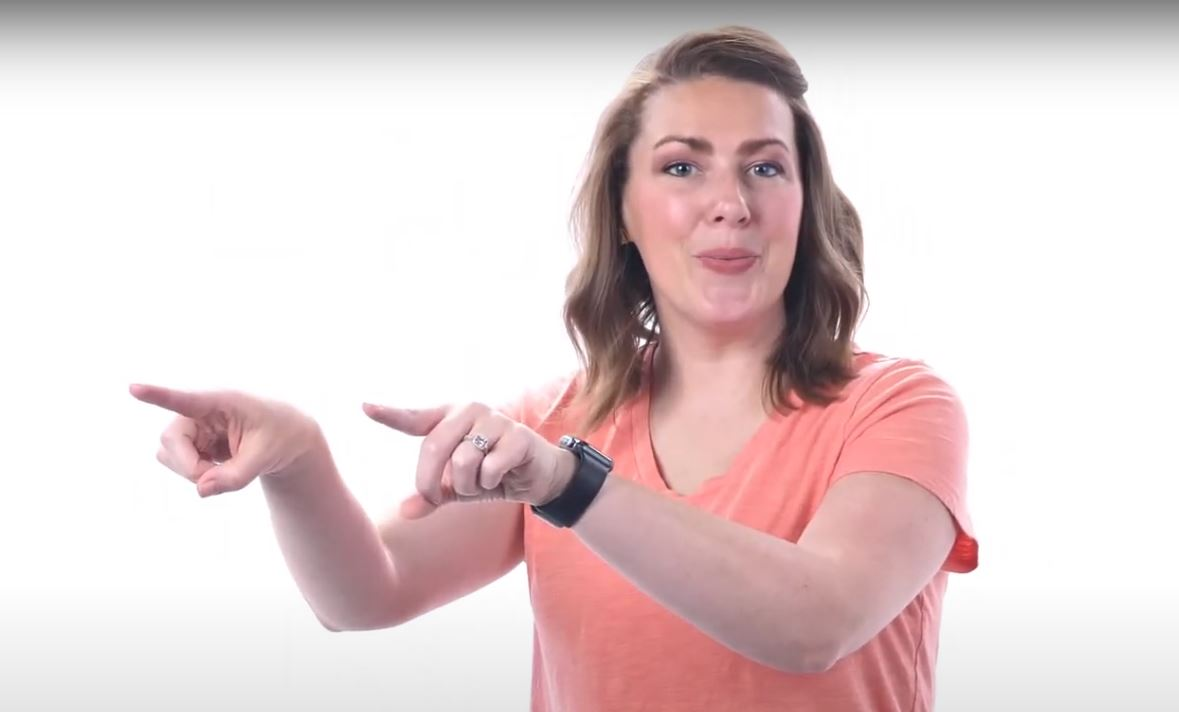go: (112, 336, 604, 582)
